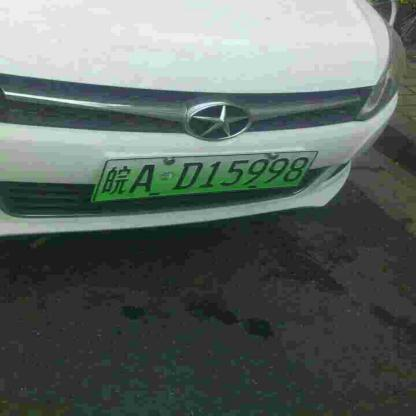lp: (92, 151, 318, 201)
